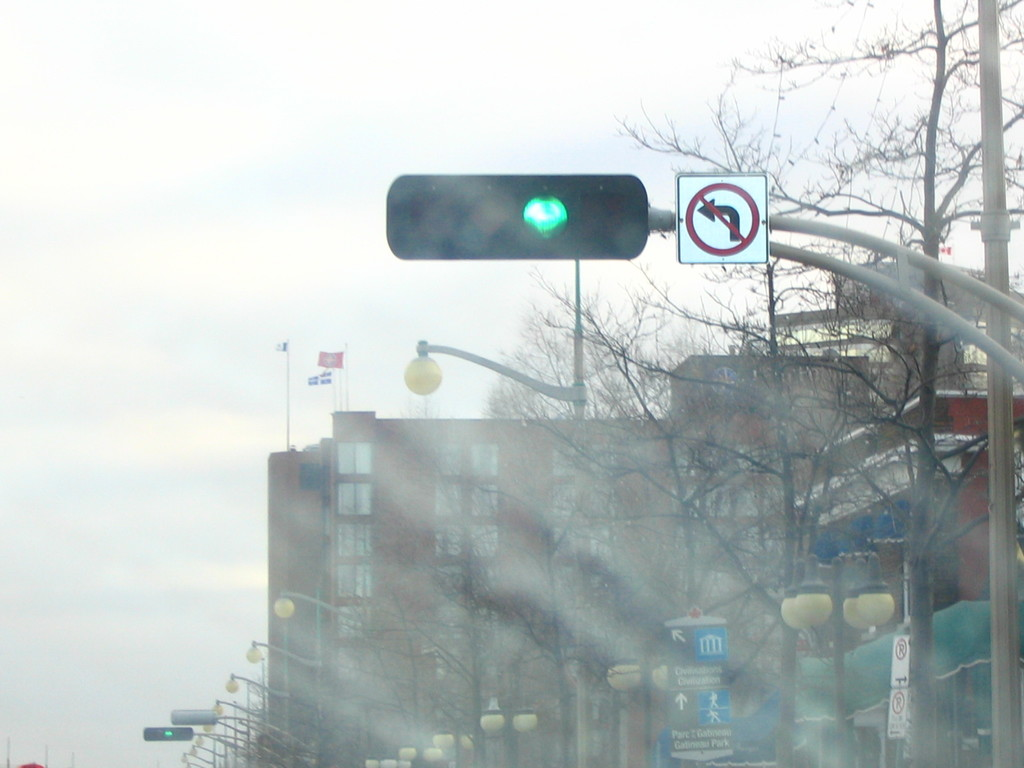green_light: (396, 181, 636, 255)
